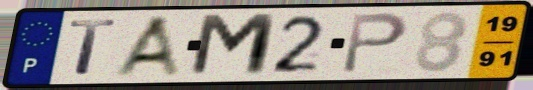2: (272, 13, 327, 75)
8: (411, 9, 473, 75)
A: (110, 13, 186, 79)
M: (186, 11, 281, 79)
P: (338, 11, 411, 76)
T: (67, 17, 121, 77)
